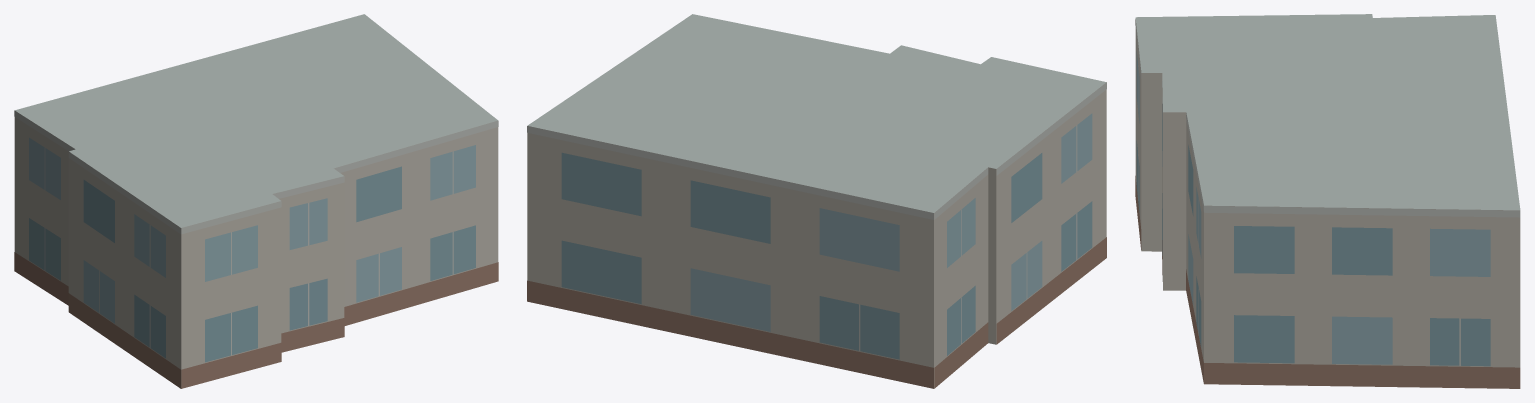
File: survey-upis-33039512.glb
The picture shows the model from 3 angles, left to right: view 1: azimuth 30°, elevation 25°; view 2: azimuth 150°, elevation 25°; view 3: azimuth 270°, elevation 25°; orthographic projection. The views are drawn at different scales.
Visible parts, largest first — view 1: survey-upis-33039512.tmp; view 2: survey-upis-33039512.tmp; view 3: survey-upis-33039512.tmp.
Part boxes in pixels (box(x1,y1,x2,y2)): survey-upis-33039512.tmp: box(14, 14, 498, 388); survey-upis-33039512.tmp: box(527, 14, 1106, 388); survey-upis-33039512.tmp: box(1135, 14, 1520, 388).
Bounding box in the file's own units: 14.4 × 6.1 × 11.93.
